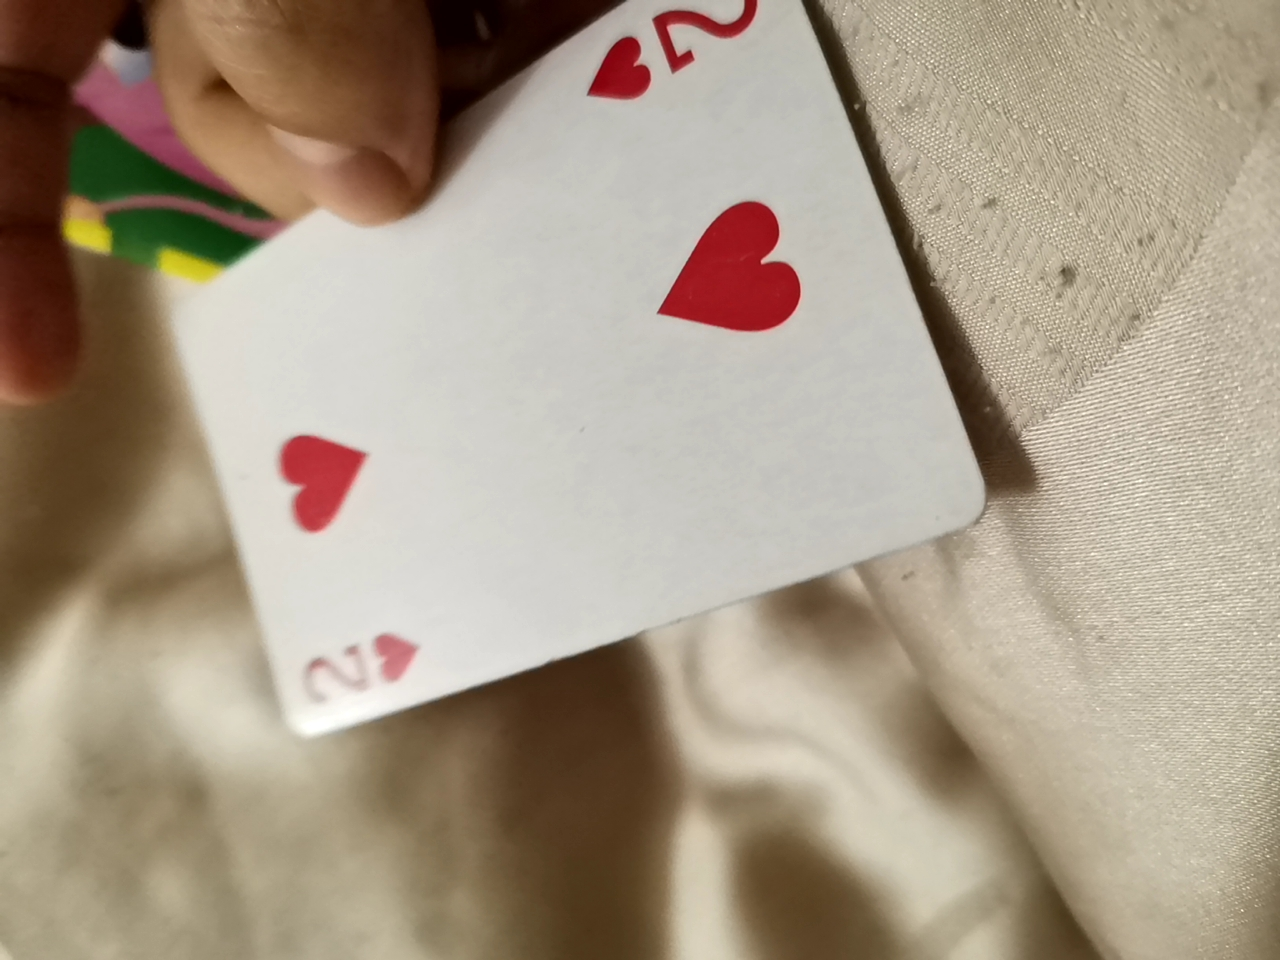hx 2: (152, 10, 985, 754)
